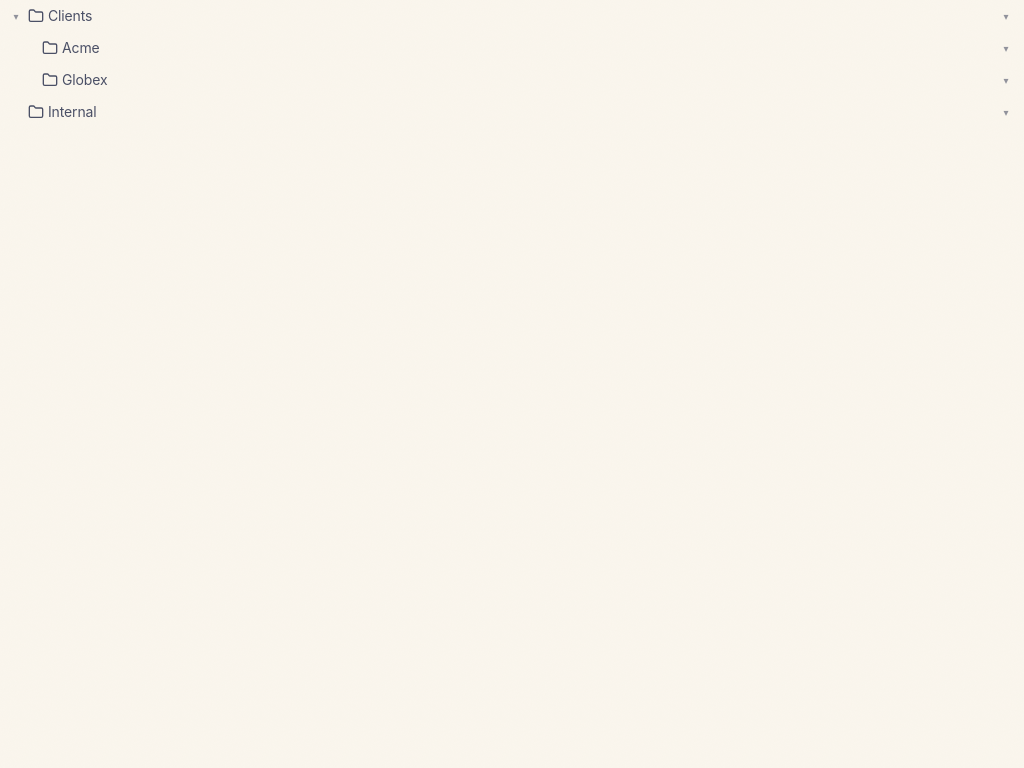
FolderTree — folder icons › surfaces an icon-update failure in the alert region
Click the button named "Change folder icon" next to "Clients" at coordinates (36, 16), box [28,8,44,24]
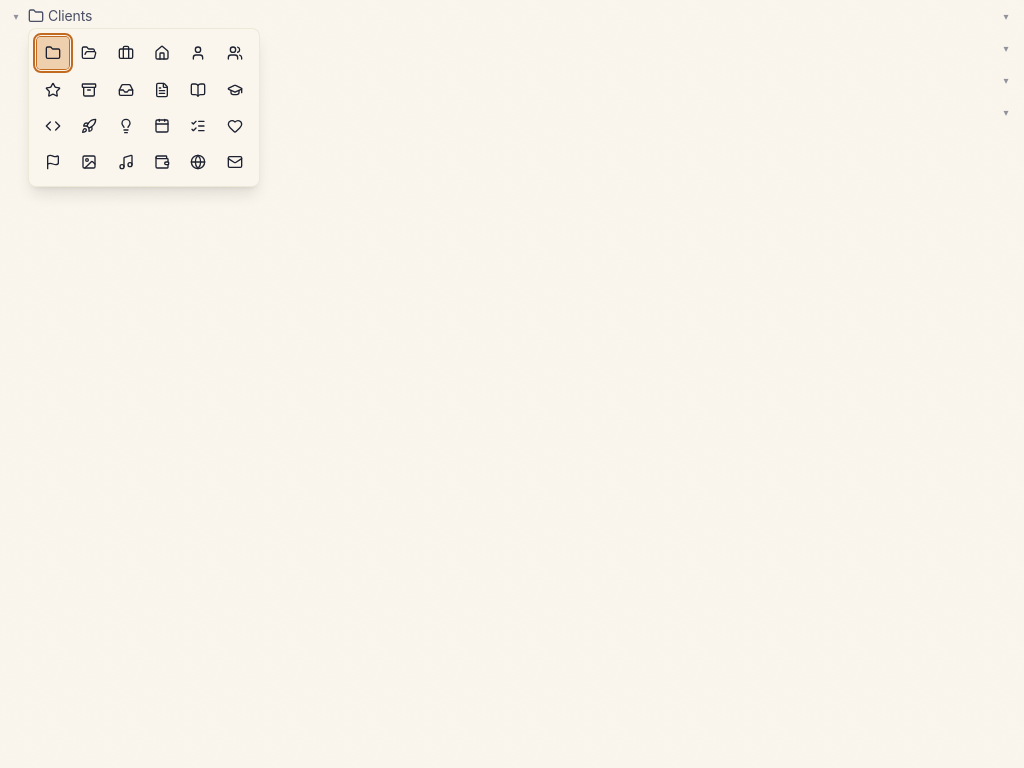
Result: the dialog is shown at [28,28,260,187]
Result: the button named "Rocket" is shown
Click the button named "Rocket" at coordinates (89, 126), box [73,110,106,142]
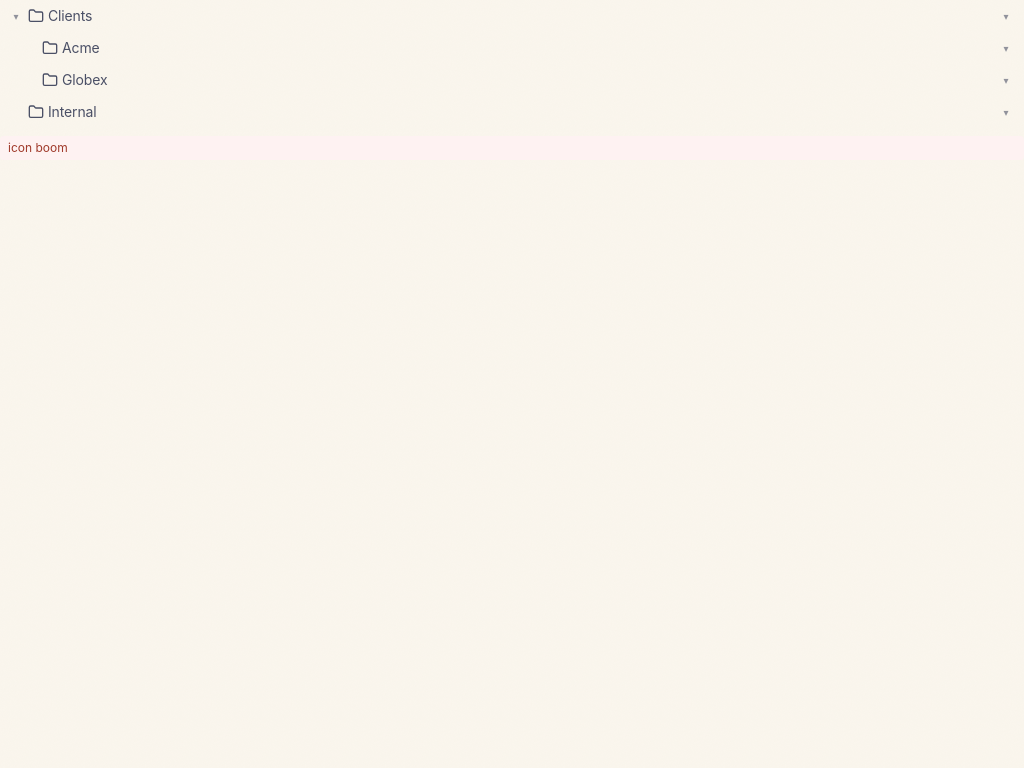
Result: the message reads "icon boom" at [8,140,68,155]
